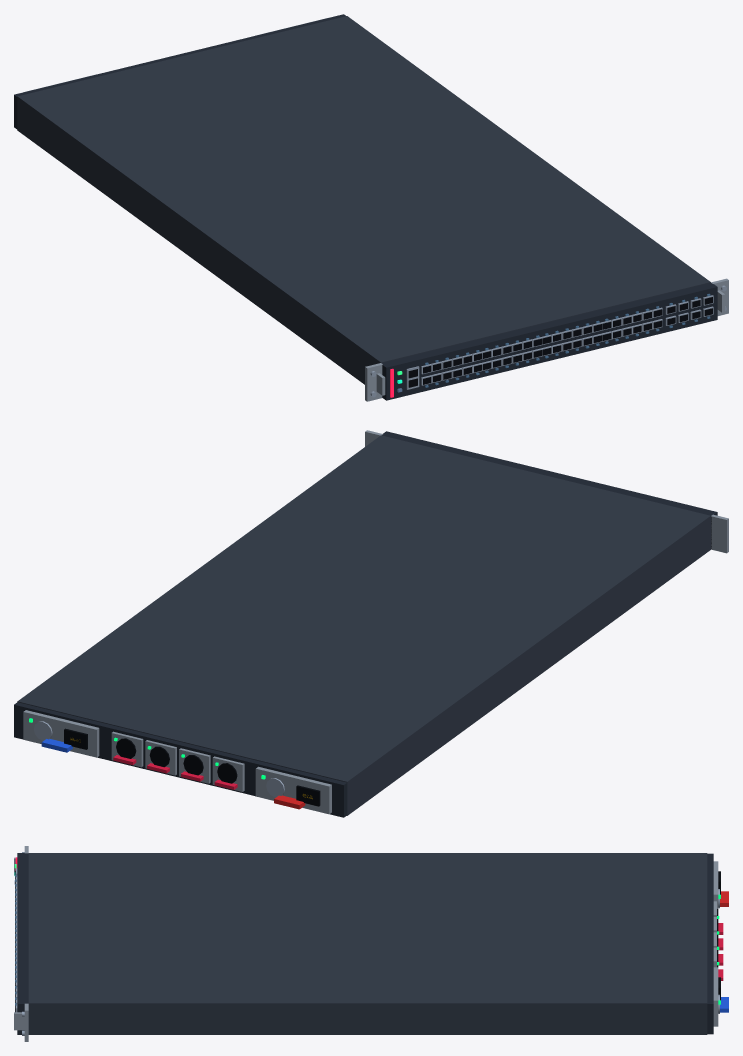
Rendered from huawei_s5755_h_family.glb.
The picture shows the model from 3 angles, top to bottom: view 1: azimuth 30°, elevation 25°; view 2: azimuth 150°, elevation 25°; view 3: azimuth 270°, elevation 25°; orthographic projection. The views are drawn at different scales.
Visible parts, largest first — view 1: BATCH_MAT_CHASSIS_BODY, BATCH_MAT_FACEPLATE, BATCH_MAT_CAVITY_DARK, BATCH_MAT_PORT_SHIELD, BATCH_MAT_RACK_EAR; view 2: BATCH_MAT_CHASSIS_BODY, BATCH_MAT_FACEPLATE, BATCH_MAT_RACK_EAR, BATCH_MAT_CAVITY_DARK; view 3: BATCH_MAT_CHASSIS_BODY, BATCH_MAT_FACEPLATE, BATCH_MAT_RACK_EAR, BATCH_MAT_PORT_SHIELD.
Part boxes in pixels (x1,y1,x2,y2): BATCH_MAT_CHASSIS_BODY: [17, 16, 710, 384]; BATCH_MAT_FACEPLATE: [14, 14, 717, 400]; BATCH_MAT_CAVITY_DARK: [408, 297, 712, 387]; BATCH_MAT_PORT_SHIELD: [370, 285, 726, 397]; BATCH_MAT_RACK_EAR: [25, 17, 728, 401]; BATCH_MAT_CHASSIS_BODY: [17, 435, 710, 815]; BATCH_MAT_FACEPLATE: [14, 431, 717, 817]; BATCH_MAT_RACK_EAR: [23, 430, 728, 814]; BATCH_MAT_CAVITY_DARK: [64, 728, 320, 806]; BATCH_MAT_CHASSIS_BODY: [28, 853, 707, 1034]; BATCH_MAT_FACEPLATE: [17, 853, 713, 1034]; BATCH_MAT_RACK_EAR: [14, 846, 718, 1041]; BATCH_MAT_PORT_SHIELD: [15, 852, 719, 1035].
Bounding box in the file's own units: 0.4826 × 0.0435 × 0.885.
